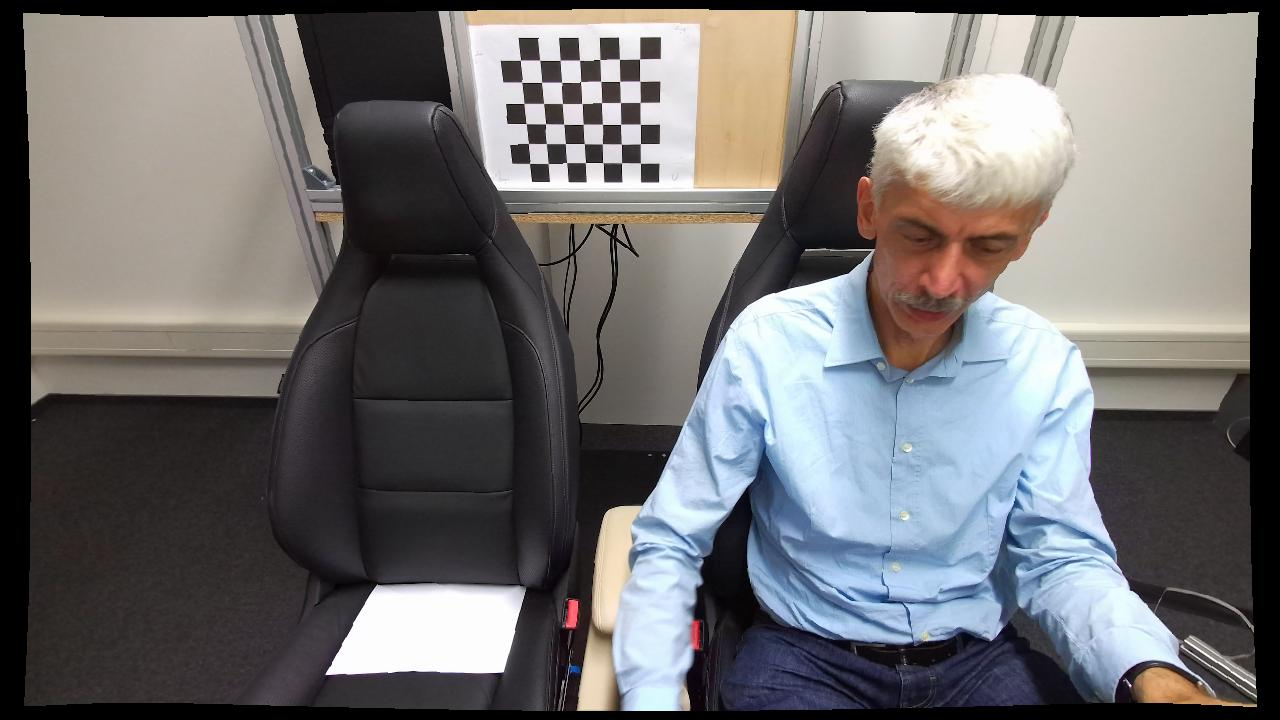Distracted: (612, 70, 1100, 718)
